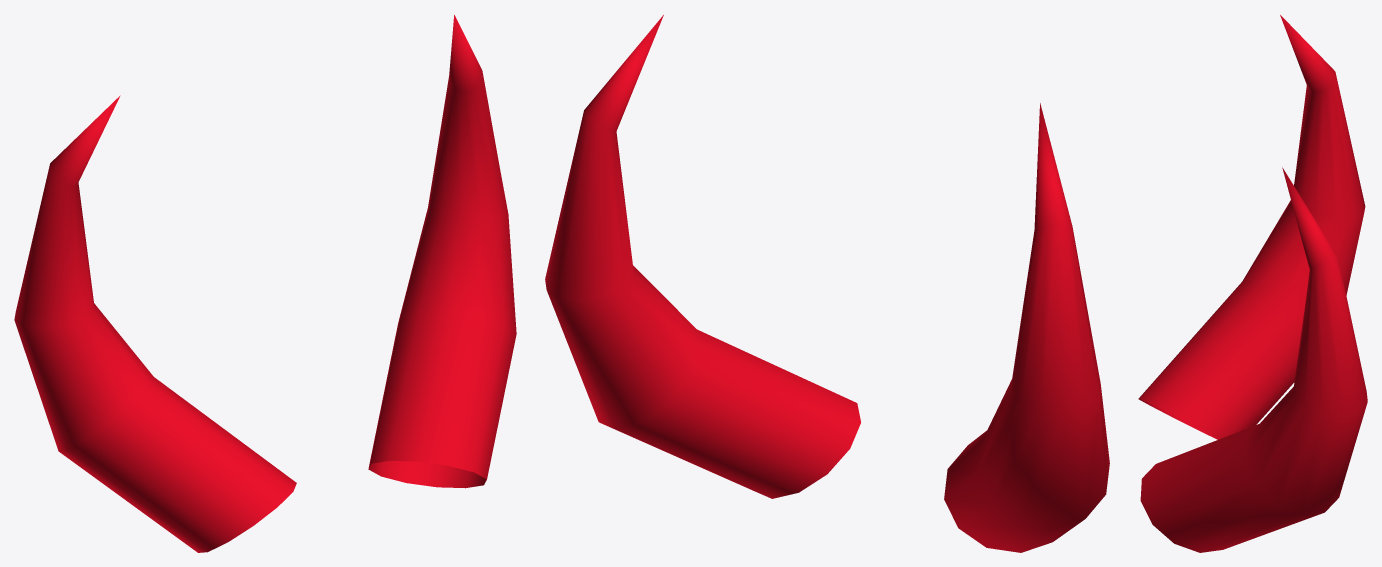
Rendered from devil.fbx.
The picture shows the model from 3 angles, left to right: view 1: azimuth 30°, elevation 25°; view 2: azimuth 150°, elevation 25°; view 3: azimuth 270°, elevation 25°; orthographic projection. The views are drawn at different scales.
Visible parts, largest first — view 1: devil; view 2: devil; view 3: devil.
Part boxes in pixels (x1,y1,x2,y2): devil: (14,15,516,552); devil: (545,15,1109,552); devil: (1138,15,1367,552).
Size of the model in its own units: 219 by 190 by 97.1.
